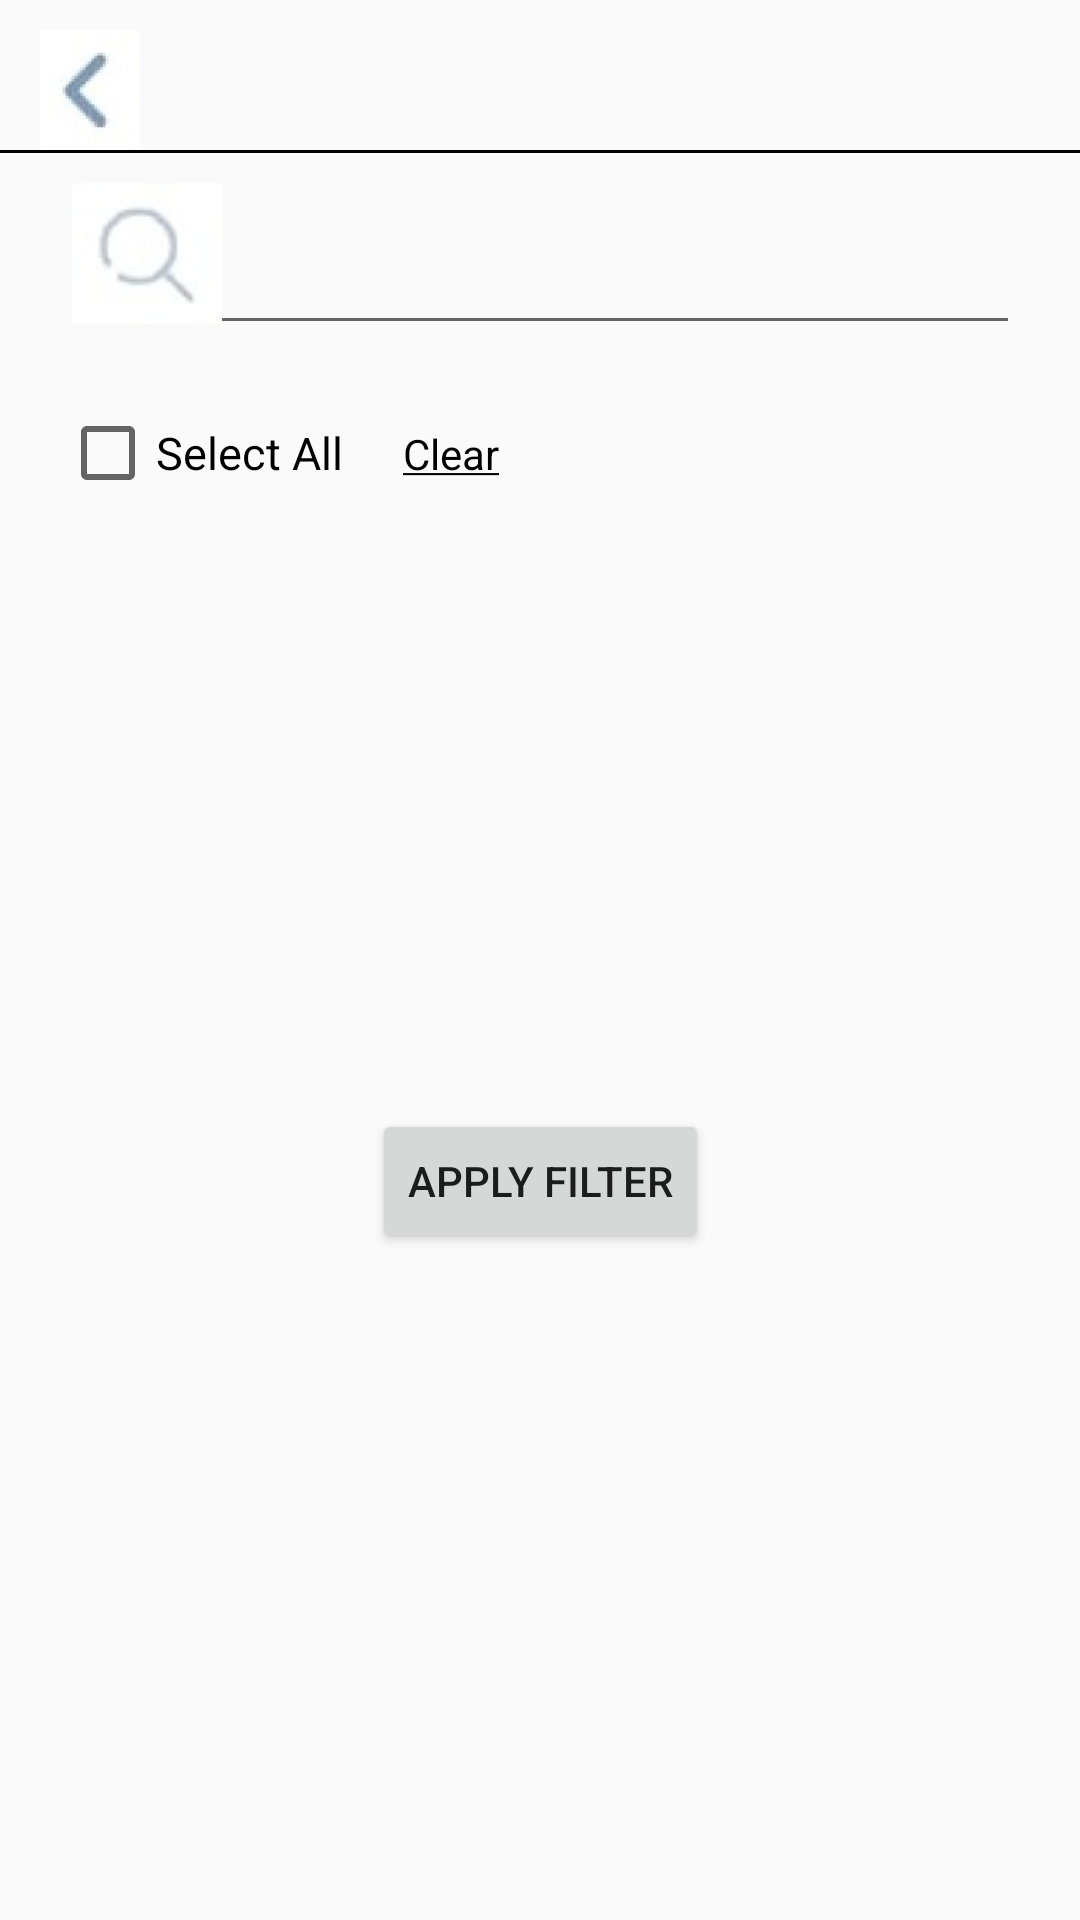

Locate icon controls on the screen. Image size 1080 x 1920, boxes as (x1, y1, x2, y2).
arrow left: (63, 53, 108, 128)
